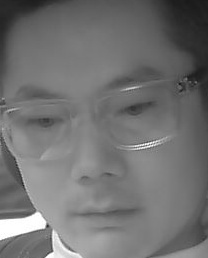eye: (115, 98, 154, 120), (22, 113, 61, 133)
glass: (93, 82, 181, 148), (2, 97, 75, 161)
mouth: (66, 193, 142, 237)
